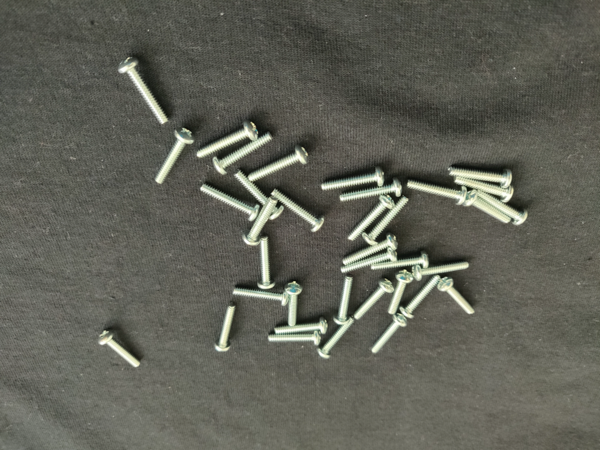longscrew: (117, 55, 169, 125), (212, 131, 274, 175), (233, 170, 285, 221), (270, 188, 326, 233), (196, 120, 259, 159), (361, 196, 410, 246), (200, 183, 261, 222), (346, 194, 395, 242), (247, 146, 310, 183), (155, 127, 195, 185), (477, 190, 530, 227), (399, 274, 442, 319), (462, 189, 513, 225), (342, 233, 399, 265), (97, 328, 141, 369), (242, 197, 278, 246), (353, 278, 394, 321), (317, 315, 356, 360), (454, 176, 516, 203), (321, 167, 387, 192), (407, 180, 469, 206), (437, 276, 476, 317), (340, 179, 403, 204), (340, 247, 398, 274), (372, 312, 407, 355), (448, 167, 514, 189), (412, 260, 470, 283), (214, 302, 238, 353), (387, 270, 413, 316), (371, 251, 430, 271), (232, 287, 290, 307), (256, 235, 277, 290), (332, 275, 354, 326), (274, 317, 329, 336), (268, 328, 322, 347), (284, 281, 303, 327)
